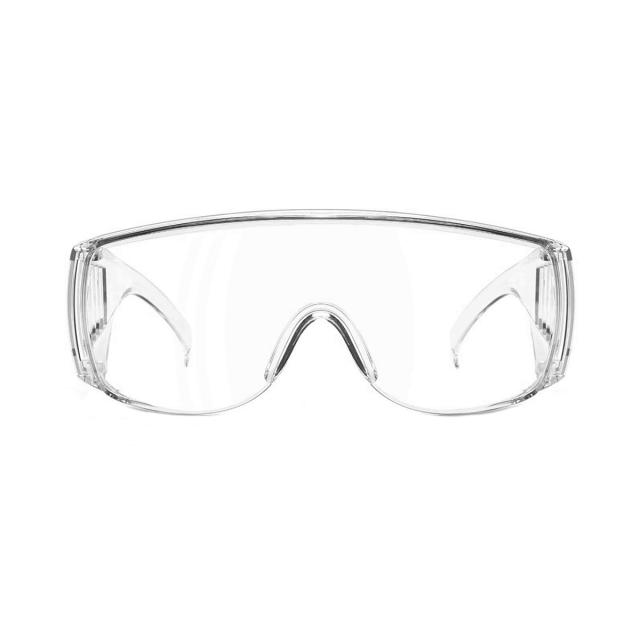Protective Glasses: (44, 196, 596, 433)
